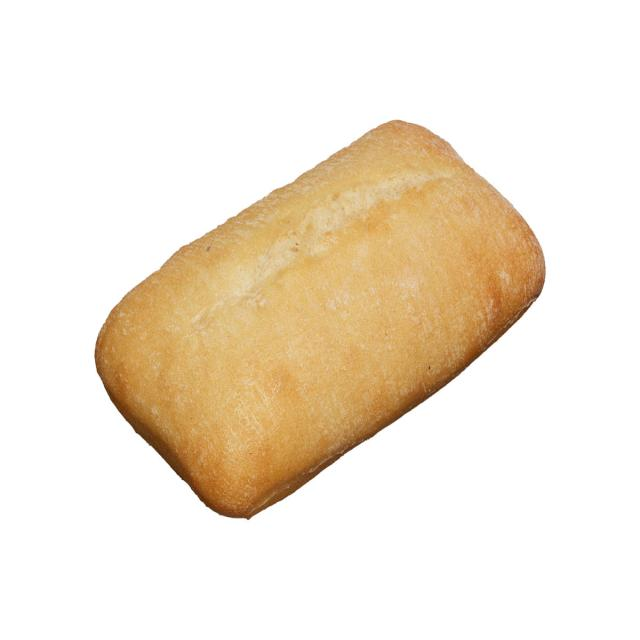Ciabatta: (95, 121, 545, 518)
